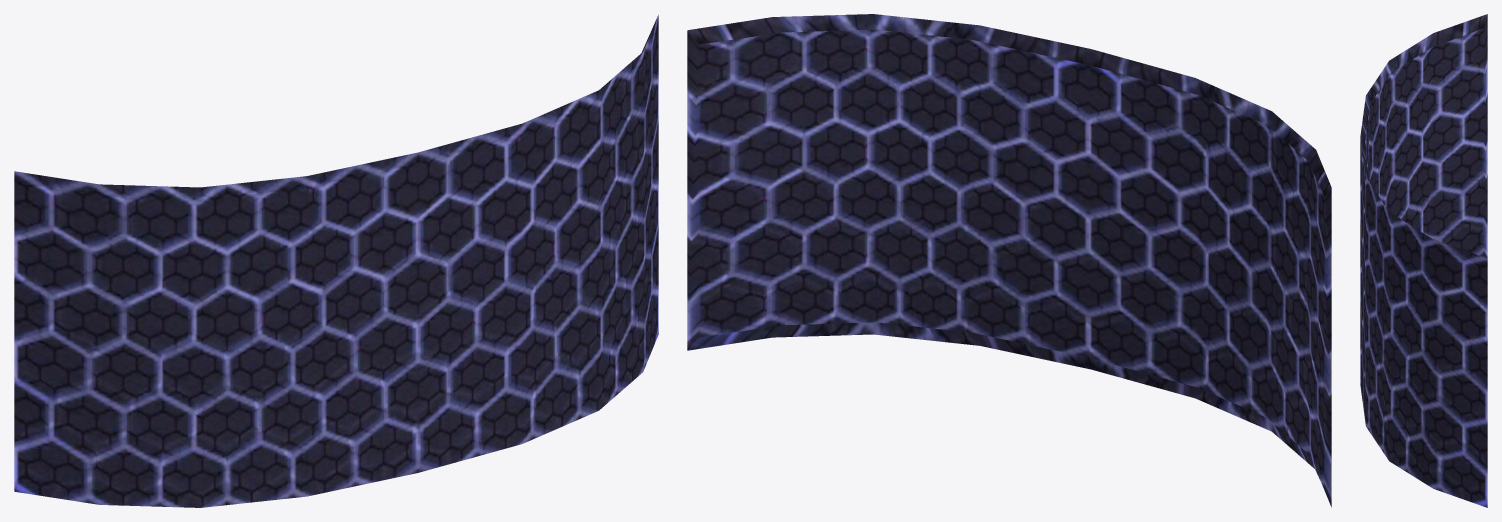
File: shield_round.glb
3 views of the same model, side by side, from view 1: azimuth 30°, elevation 25°; view 2: azimuth 150°, elevation 25°; view 3: azimuth 270°, elevation 25° (orthographic). The views are drawn at different scales.
Parts seen in each view (by area): view 1: Plane_0; view 2: Plane_0; view 3: Plane_0.
Boxes of the visible parts, x1,y1,x2,y2 form: Plane_0: (14,14,658,507); Plane_0: (687,14,1331,507); Plane_0: (1360,14,1487,507).
Size of the model in its own units: 10.67 by 5.07 by 2.34.
Materials: 1 (1 with a texture image).
